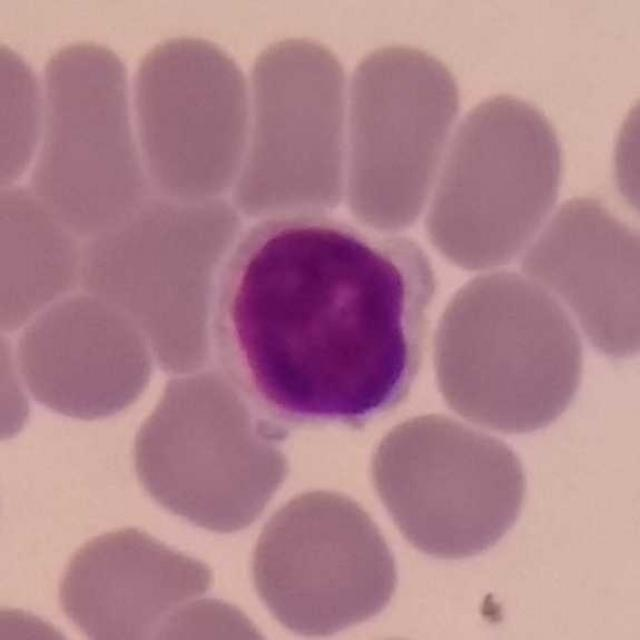Lymphocyte: (212, 207, 449, 443)
RBC: (123, 364, 294, 538), (417, 85, 572, 275), (425, 264, 591, 438), (363, 408, 535, 566), (334, 35, 466, 237), (227, 26, 358, 222), (23, 32, 150, 234), (243, 481, 405, 639), (125, 28, 258, 205), (514, 187, 640, 365), (51, 518, 219, 640), (11, 290, 158, 428), (0, 178, 85, 334), (0, 29, 50, 199), (132, 591, 290, 640), (603, 71, 640, 246), (0, 300, 37, 456), (0, 596, 98, 640)
